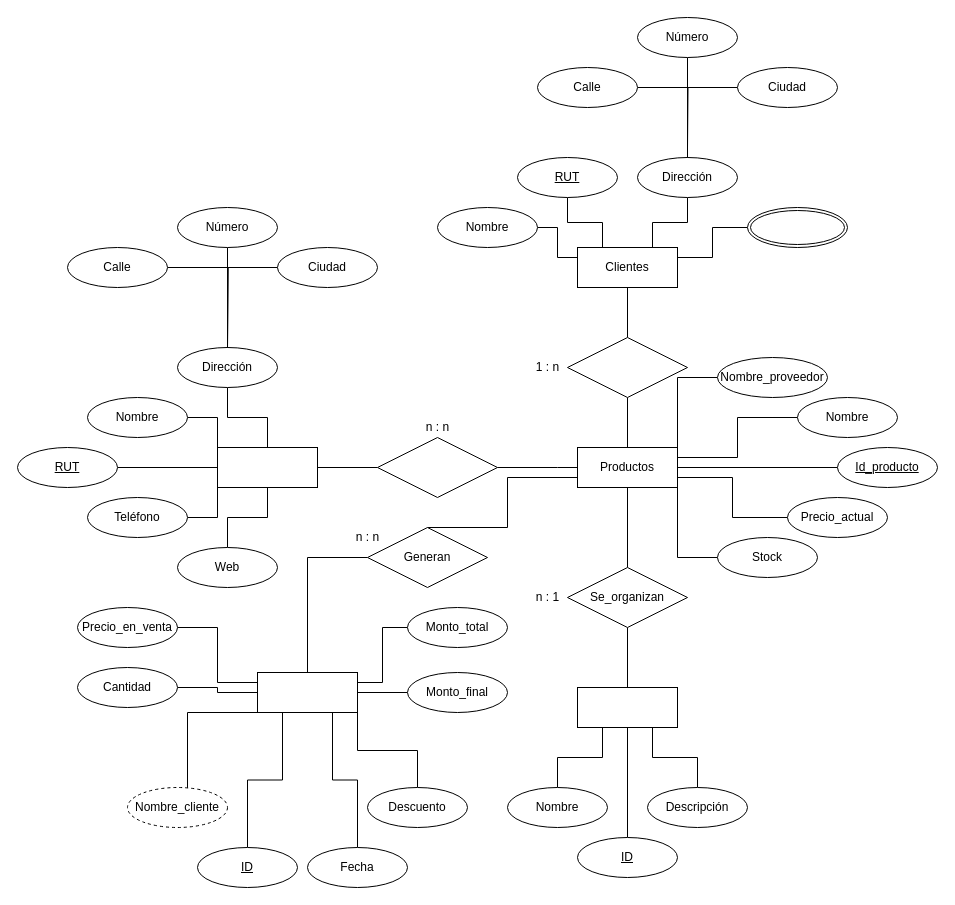
Image size: 955x905. Some labels were removed from this diagram. Here are the shapes that lost their labels. From the top down, the centre of each, then its label:
pixel 797 227: Teléfonos
pixel 627 367: Compran
pixel 267 467: Proveedores
pixel 437 467: Suministran
pixel 307 692: Ventas
pixel 627 707: Categorías
